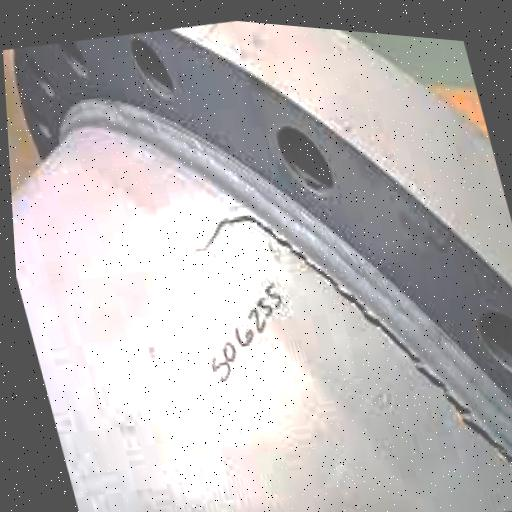crack: (203, 153, 512, 512)
